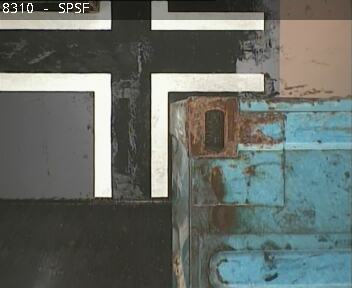groundmarker_1: (1, 71, 264, 197), (1, 1, 265, 32)
